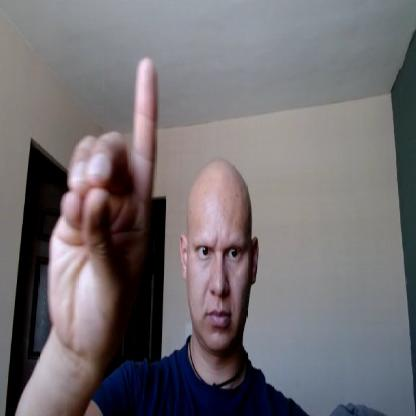D: (48, 59, 157, 353)
